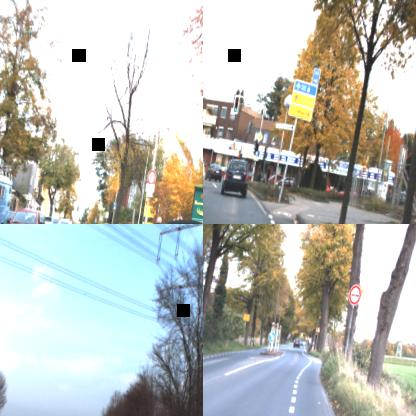keep right: (267, 330, 275, 342)
no overtaking (trucks): (346, 283, 362, 306)
priority road: (254, 130, 264, 142)
speed limit 30: (145, 168, 157, 185)
